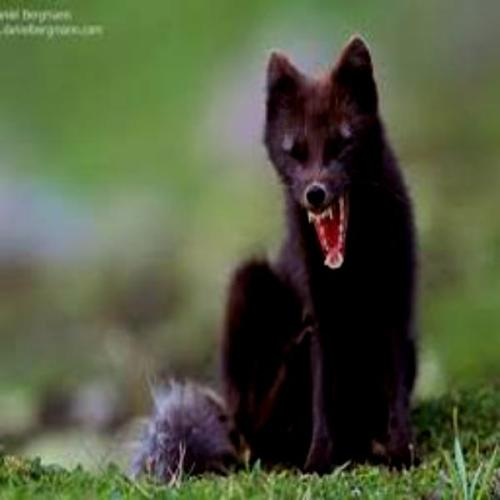arctic_fox-endangered: (165, 55, 420, 466)
